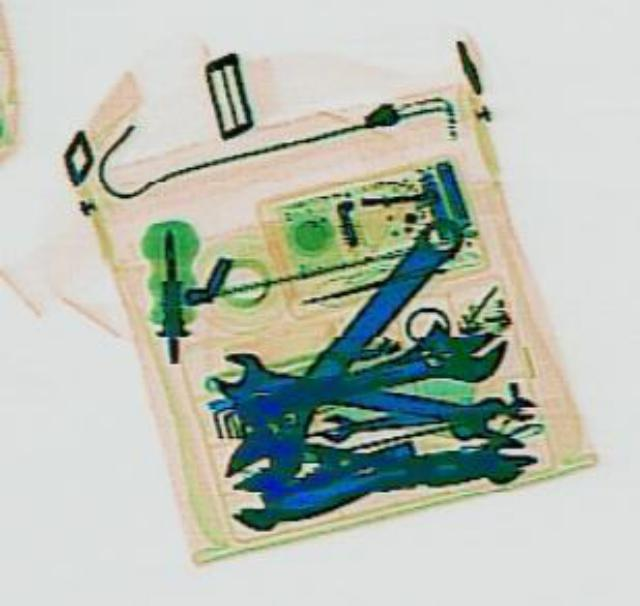Wrench: (213, 203, 481, 501), (228, 317, 516, 439), (205, 342, 515, 442)
